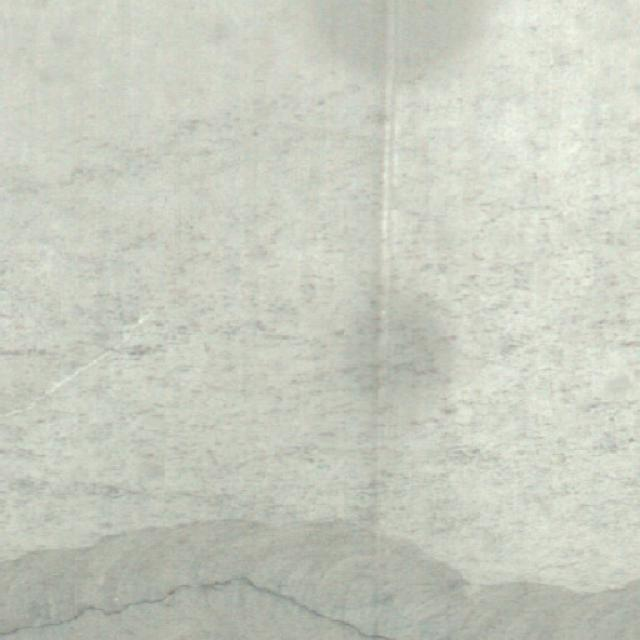Transverse: (0, 546, 391, 636)
